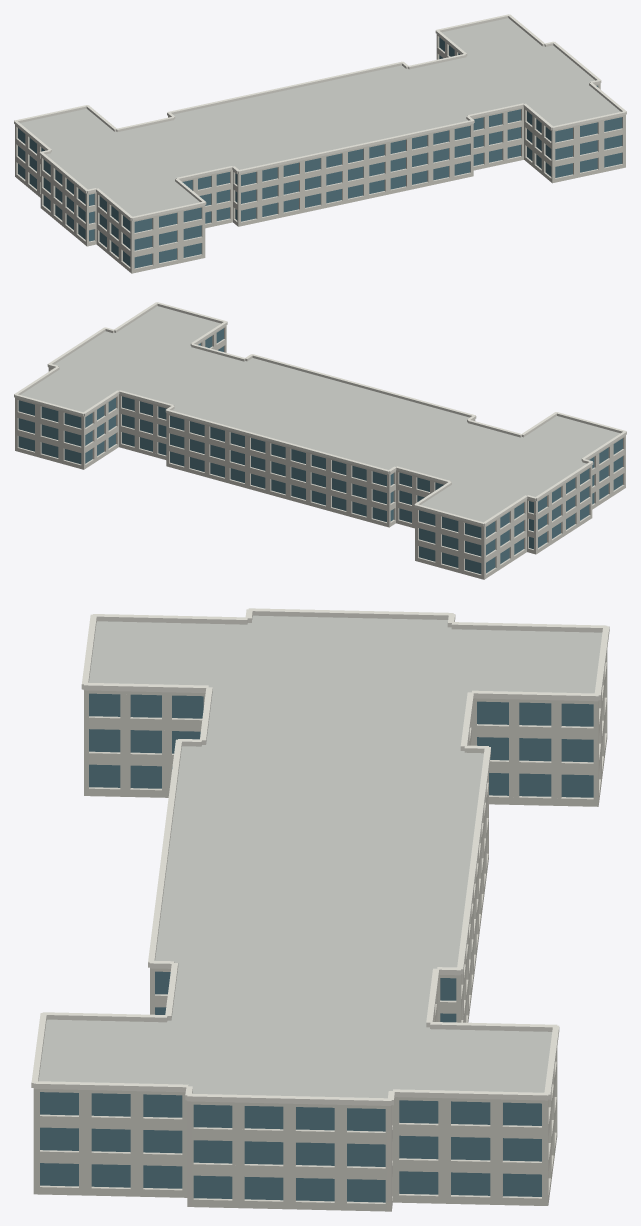
Rendered from sb_1173588650.far.glb.
3 renders of one model, top to bottom at view 1: azimuth 30°, elevation 25°; view 2: azimuth 150°, elevation 25°; view 3: azimuth 270°, elevation 25°, orthographic. The views are drawn at different scales.
Parts seen in each view (by area): view 1: roof, wall, glass, trim; view 2: roof, wall, glass, trim; view 3: roof, wall, glass, trim.
Boxes of the visible parts, x1,y1,x2,y2 form: roof: [20, 18, 620, 216]; wall: [15, 34, 625, 273]; glass: [18, 37, 622, 268]; trim: [14, 14, 626, 220]; roof: [21, 306, 620, 522]; wall: [15, 325, 625, 579]; glass: [18, 328, 622, 574]; trim: [14, 302, 626, 526]; roof: [38, 615, 602, 1098]; wall: [33, 650, 607, 1211]; glass: [40, 693, 593, 1202]; trim: [31, 608, 609, 1105].
Size of the model in its own units: 92.27 by 9.74 by 45.75.
